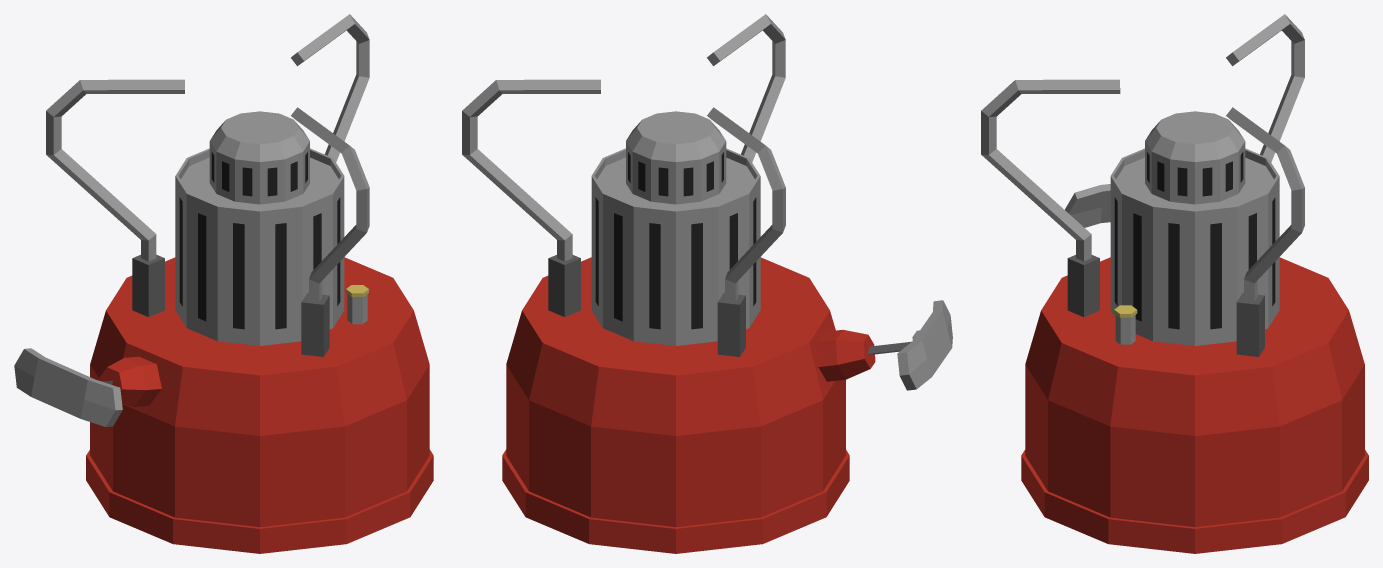
Rendered from Primus_mat.fbx.
The picture shows the model from 3 angles, left to right: view 1: azimuth 30°, elevation 25°; view 2: azimuth 150°, elevation 25°; view 3: azimuth 270°, elevation 25°; orthographic projection.
Parts seen in each view (by area): view 1: Primus_mat; view 2: Primus_mat; view 3: Primus_mat.
Part boxes in pixels (x1,y1,x2,y2): Primus_mat: (14,14,433,553); Primus_mat: (462,14,952,553); Primus_mat: (981,14,1368,553).
Bounding box in the file's own units: 18.32 × 17.41 × 15.27.
